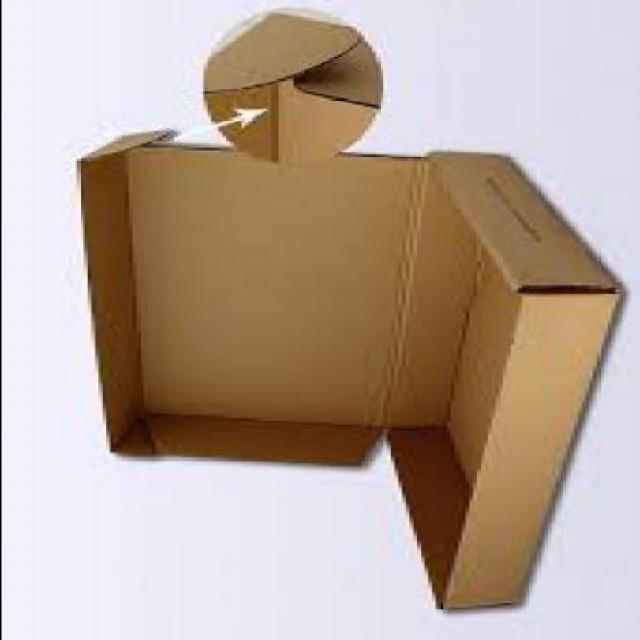box: (71, 126, 622, 609), (203, 14, 375, 161)
